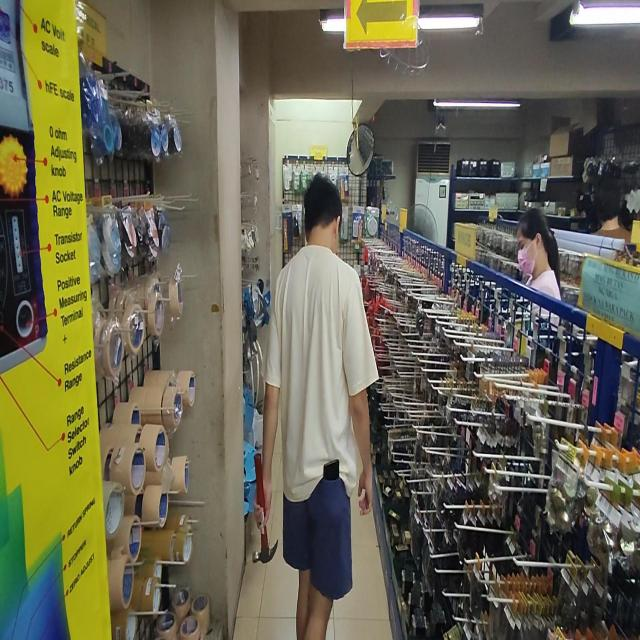hammer: (252, 453, 278, 563)
